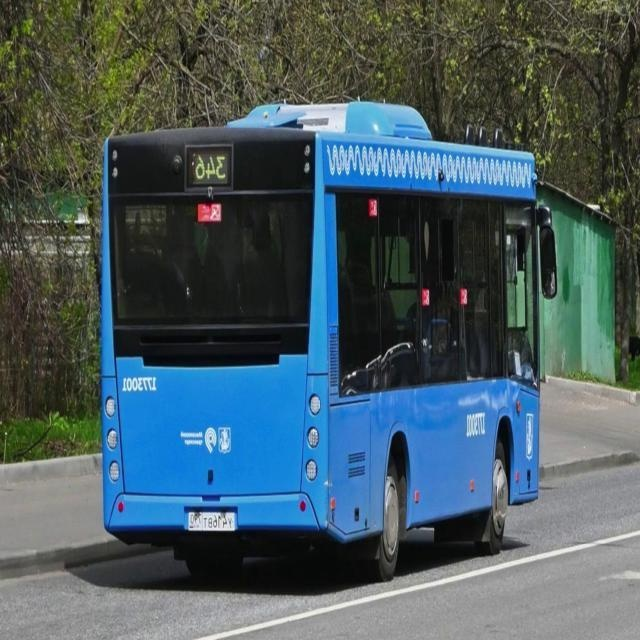bus: (58, 92, 586, 596)
